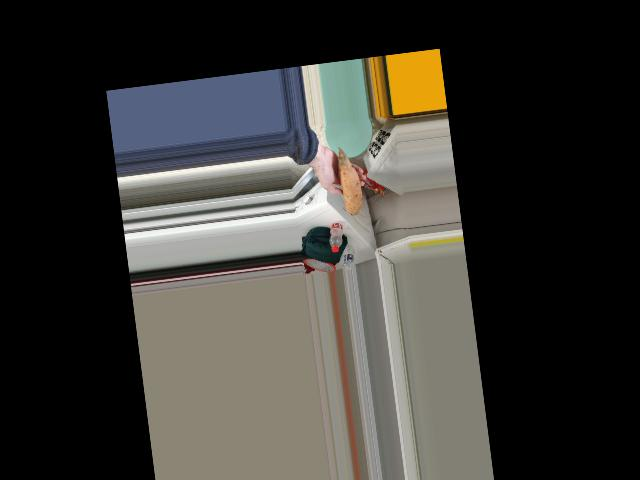sweet_potato: (334, 148, 359, 211)
